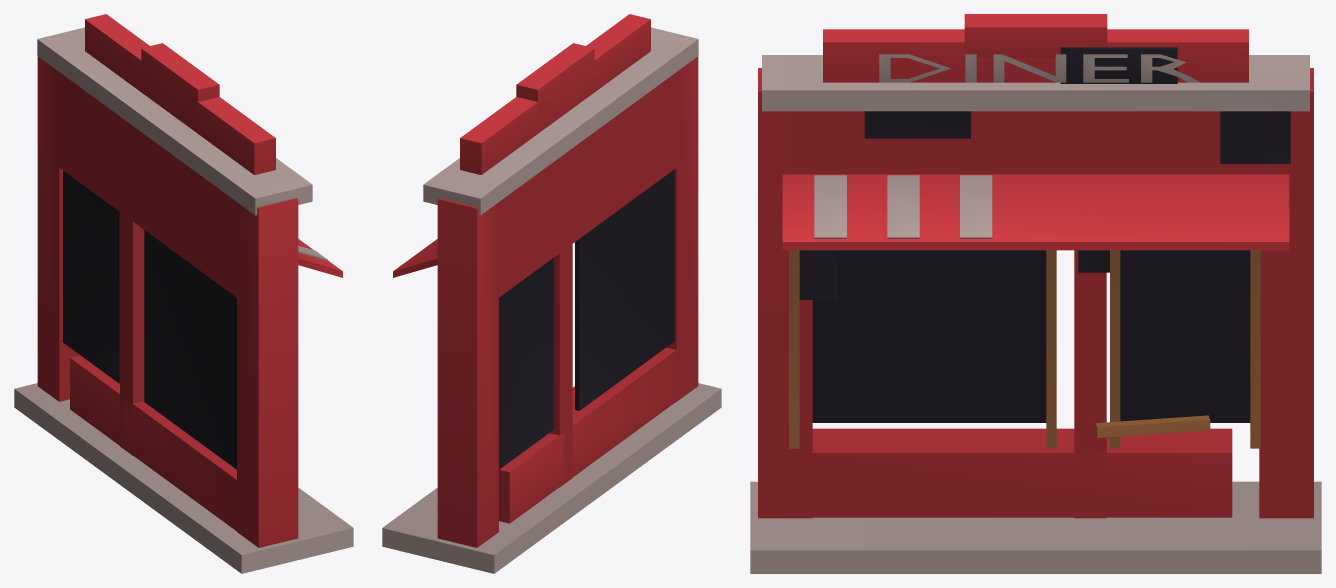
The model's file is decay.burned-facade.diner.lod1.glb.
3 renders of one model, left to right at view 1: azimuth 30°, elevation 25°; view 2: azimuth 150°, elevation 25°; view 3: azimuth 270°, elevation 25°, orthographic. The views are drawn at different scales.
Size of the model in its own units: 1.28 by 4.39 by 4.4.
